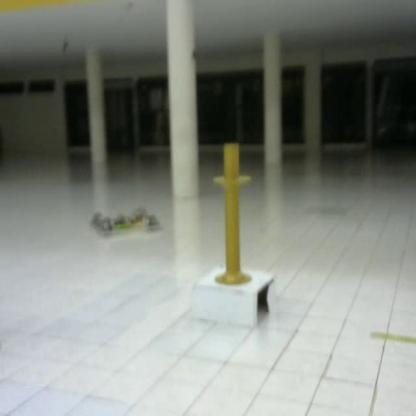pole: (209, 144, 260, 291)
